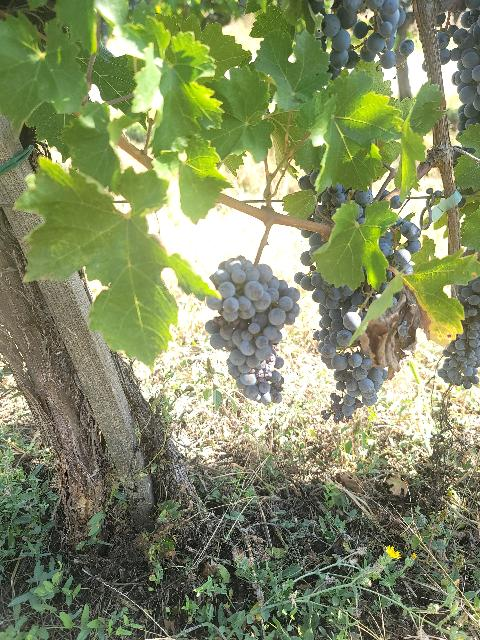grapes: (205, 256, 300, 405), (295, 230, 378, 351), (321, 344, 386, 421), (438, 278, 480, 390)
